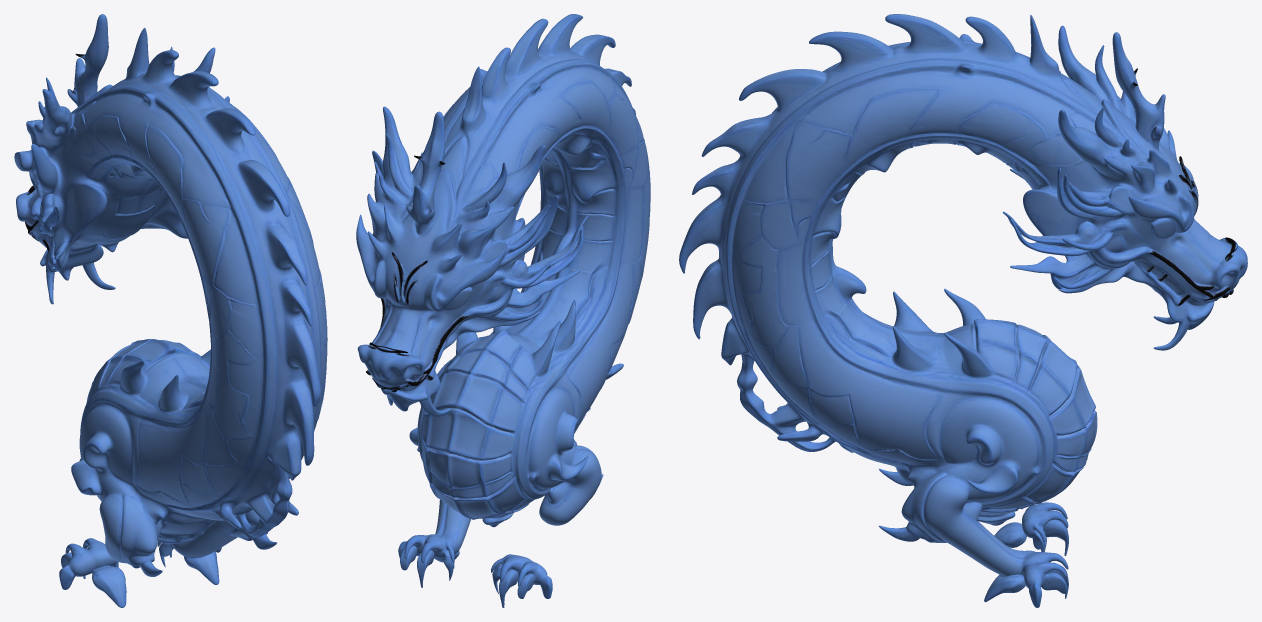
File: model_0fd03526-59bd-4241-8a66-da6cac4d4f10_draco.glb
The picture shows the model from 3 angles, left to right: view 1: azimuth 30°, elevation 25°; view 2: azimuth 150°, elevation 25°; view 3: azimuth 270°, elevation 25°; orthographic projection. The views are drawn at different scales.
Parts seen in each view (by area): view 1: tripo_node_0fd03526-59bd-4241-8a66-da6cac4d4f10; view 2: tripo_node_0fd03526-59bd-4241-8a66-da6cac4d4f10; view 3: tripo_node_0fd03526-59bd-4241-8a66-da6cac4d4f10.
Boxes of the visible parts, box(x1,y1,x2,y2) form: tripo_node_0fd03526-59bd-4241-8a66-da6cac4d4f10: box(14, 14, 327, 607); tripo_node_0fd03526-59bd-4241-8a66-da6cac4d4f10: box(356, 14, 650, 607); tripo_node_0fd03526-59bd-4241-8a66-da6cac4d4f10: box(679, 14, 1247, 607).
Size of the model in its own units: 0.3985 by 1 by 0.9163.
Materials: 1 (1 with a texture image).
